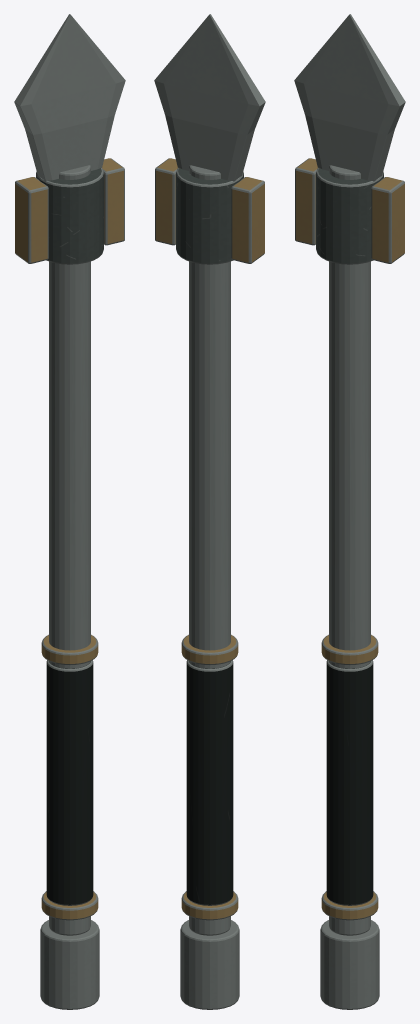
Rendered from long_spear-t3.glb.
3 renders of one model, left to right at view 1: azimuth 30°, elevation 25°; view 2: azimuth 150°, elevation 25°; view 3: azimuth 330°, elevation 25°, orthographic.
Parts seen in each view (by area): view 1: Steel shaft, Forged spear point, Continuous two-hand wrap, Spear socket housing, Spear rear counterweight, Socket stabilizer, Socket stabilizer.001, Grip ferrule.001, Grip ferrule; view 2: Steel shaft, Forged spear point, Continuous two-hand wrap, Spear socket housing, Spear rear counterweight, Socket stabilizer, Socket stabilizer.001, Grip ferrule.001, Grip ferrule; view 3: Steel shaft, Forged spear point, Continuous two-hand wrap, Spear socket housing, Spear rear counterweight, Socket stabilizer.001, Socket stabilizer, Grip ferrule.001, Grip ferrule.
Boxes of the visible parts, x1,y1,x2,y2 form: Steel shaft: [49, 165, 90, 935]; Forged spear point: [14, 14, 125, 181]; Continuous two-hand wrap: [46, 660, 93, 905]; Spear socket housing: [36, 168, 103, 264]; Spear rear counterweight: [40, 920, 99, 1009]; Socket stabilizer: [15, 177, 48, 263]; Socket stabilizer.001: [102, 158, 124, 245]; Grip ferrule.001: [41, 634, 98, 664]; Grip ferrule: [41, 891, 98, 920]; Steel shaft: [189, 165, 230, 935]; Forged spear point: [154, 14, 265, 181]; Continuous two-hand wrap: [186, 660, 233, 905]; Spear socket housing: [176, 167, 243, 264]; Spear rear counterweight: [180, 920, 239, 1009]; Socket stabilizer: [231, 177, 264, 263]; Socket stabilizer.001: [155, 158, 177, 245]; Grip ferrule.001: [181, 634, 238, 664]; Grip ferrule: [181, 891, 238, 920]; Steel shaft: [329, 165, 370, 935]; Forged spear point: [294, 14, 405, 181]; Continuous two-hand wrap: [326, 660, 373, 905]; Spear socket housing: [316, 167, 383, 264]; Spear rear counterweight: [320, 920, 379, 1009]; Socket stabilizer.001: [371, 177, 404, 263]; Socket stabilizer: [295, 158, 317, 245]; Grip ferrule.001: [321, 634, 378, 664]; Grip ferrule: [321, 891, 378, 920].
Size of the model in its own units: 0.3596 by 3.2 by 0.2.
Materials: 4 (4 with a texture image).
